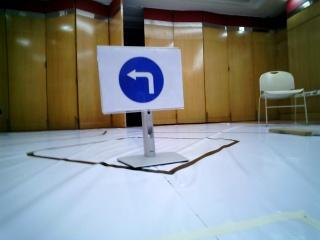left: (101, 48, 177, 108)
